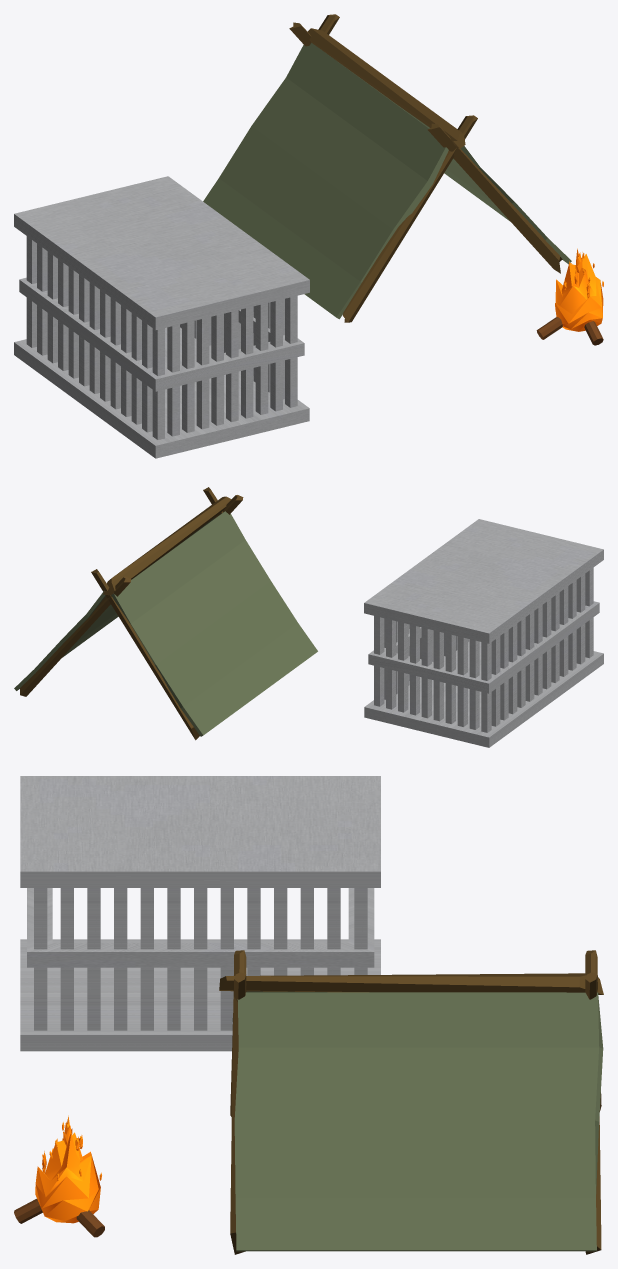
Rendered from camp.glb.
3 renders of one model, top to bottom at view 1: azimuth 30°, elevation 25°; view 2: azimuth 150°, elevation 25°; view 3: azimuth 270°, elevation 25°, orthographic. The views are drawn at different scales.
Visible parts, largest first — view 1: T.L, Cube, Cube.001, Cube.002, pSphere1, T, F.R, F.L, T.R; view 2: T.L, Cube, Cube.001, Cube.002, T, B.R, T.R, B.L; view 3: T.R, Cube.001, Cube, Cube.002, T, pSphere1, F.R, B.R.
Part boxes in pixels (left/top/right/bottom): T.L: left=203, top=43, right=448, bottom=319; Cube: left=14, top=236, right=309, bottom=458; Cube.001: left=14, top=176, right=309, bottom=330; Cube.002: left=19, top=277, right=304, bottom=391; pSphere1: left=536, top=248, right=603, bottom=345; T: left=307, top=28, right=465, bottom=148; F.R: left=427, top=123, right=562, bottom=273; F.L: left=343, top=115, right=477, bottom=322; T.R: left=402, top=108, right=571, bottom=263; T.L: left=111, top=511, right=317, bottom=736; Cube: left=364, top=567, right=603, bottom=747; Cube.001: left=364, top=519, right=603, bottom=643; Cube.002: left=368, top=601, right=599, bottom=693; T: left=103, top=496, right=231, bottom=595; B.R: left=20, top=576, right=131, bottom=696; T.R: left=14, top=517, right=214, bottom=690; B.L: left=91, top=569, right=199, bottom=740; T.R: left=234, top=992, right=603, bottom=1251; Cube.001: left=20, top=776, right=380, bottom=887; Cube: left=20, top=888, right=380, bottom=1051; Cube.002: left=27, top=888, right=374, bottom=967; T: left=219, top=973, right=603, bottom=994; pSphere1: left=14, top=1115, right=104, bottom=1237; F.R: left=230, top=950, right=246, bottom=1254; B.R: left=585, top=950, right=601, bottom=1254.
Bounding box in the file's own units: 16.34 × 5.67 × 13.1.
5 materials, 1 textured.
